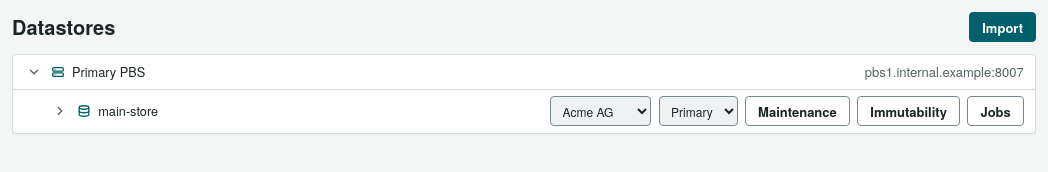
Test: DatastoresPage — PBS instance row › opens a lone PBS instance by itself, and a collapse sticks
Expected: the text "main-store" is shown, [98,101,158,121]
Click the text "Primary PBS".
click(109, 72)  # box [72,62,145,82]
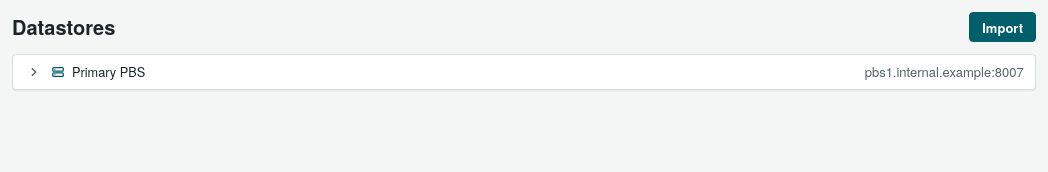
Now the text "main-store" is gone
